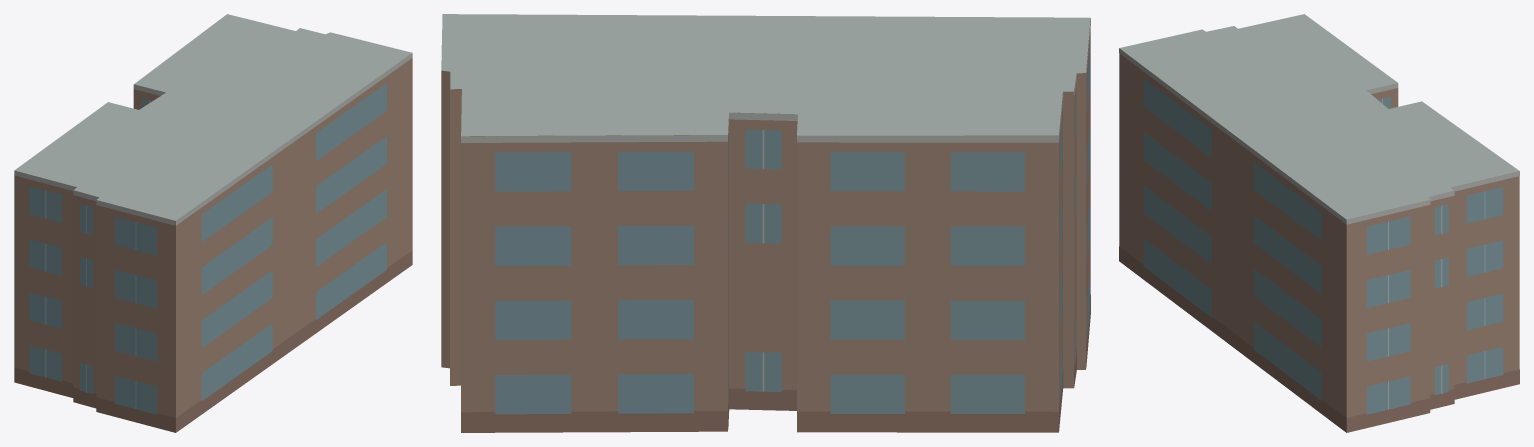
Rendered from survey-upis-32815844.glb.
3 renders of one model, left to right at view 1: azimuth 30°, elevation 25°; view 2: azimuth 150°, elevation 25°; view 3: azimuth 270°, elevation 25°, orthographic. The views are drawn at different scales.
Parts seen in each view (by area): view 1: survey-upis-32815844.tmp; view 2: survey-upis-32815844.tmp; view 3: survey-upis-32815844.tmp.
Part boxes in pixels (bbox=[...]): survey-upis-32815844.tmp: bbox=[14, 14, 412, 432]; survey-upis-32815844.tmp: bbox=[441, 14, 1090, 432]; survey-upis-32815844.tmp: bbox=[1119, 14, 1519, 432].
Bounding box in the file's own units: 21.85 × 10.55 × 17.98.
